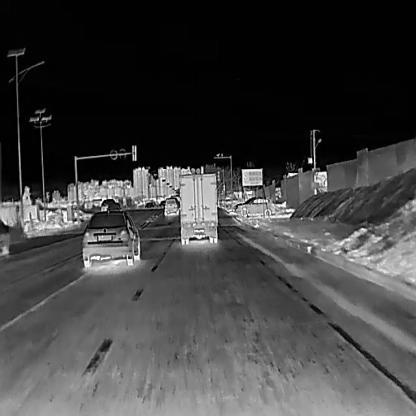car: (80, 210, 141, 267), (177, 171, 217, 245), (233, 195, 276, 217), (163, 196, 179, 215), (99, 198, 115, 212), (106, 202, 122, 213)
